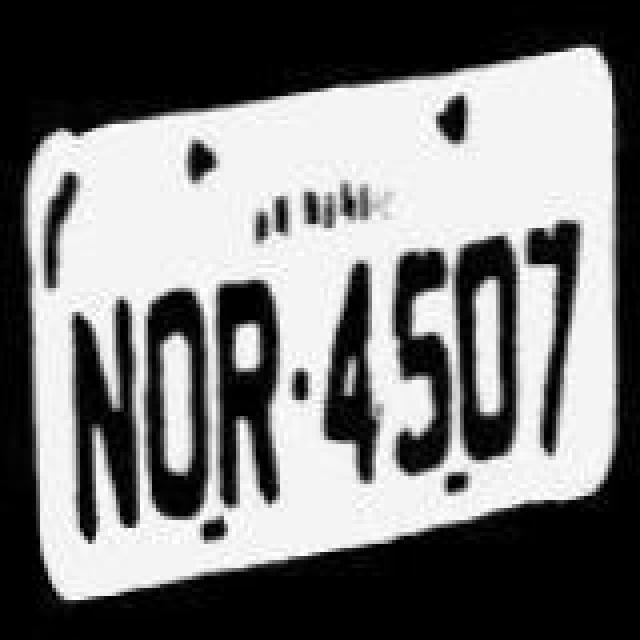4: (318, 258, 394, 510)
5: (386, 248, 458, 476)
7: (520, 192, 604, 472)
N: (60, 290, 140, 542)
O: (136, 260, 216, 520), (452, 232, 528, 468)
R: (204, 278, 292, 510)
